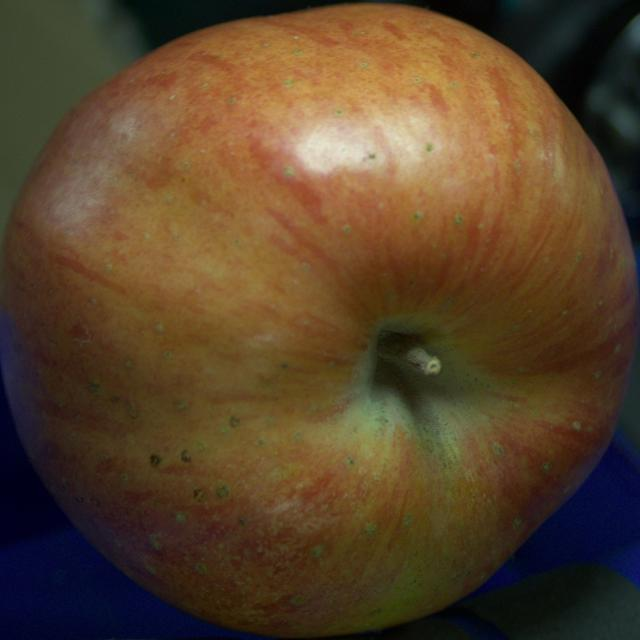apple: (0, 4, 639, 637)
pest: (216, 486, 229, 498), (194, 489, 205, 501), (151, 454, 161, 466), (181, 450, 191, 461), (229, 416, 239, 426)
